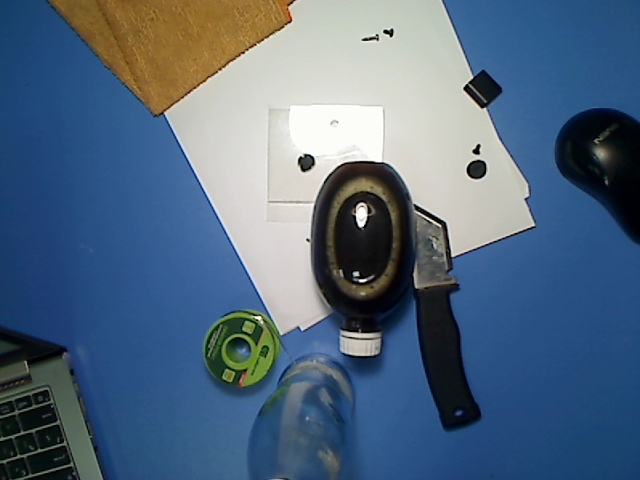plast_bottle: (304, 155, 422, 363)
